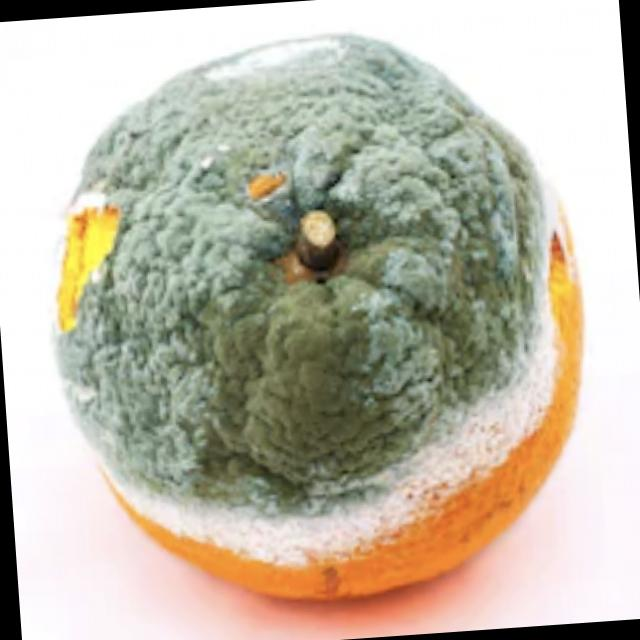rotten-orange: (35, 16, 603, 630)
